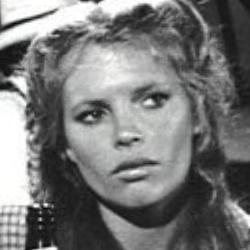face: (13, 8, 233, 216)
